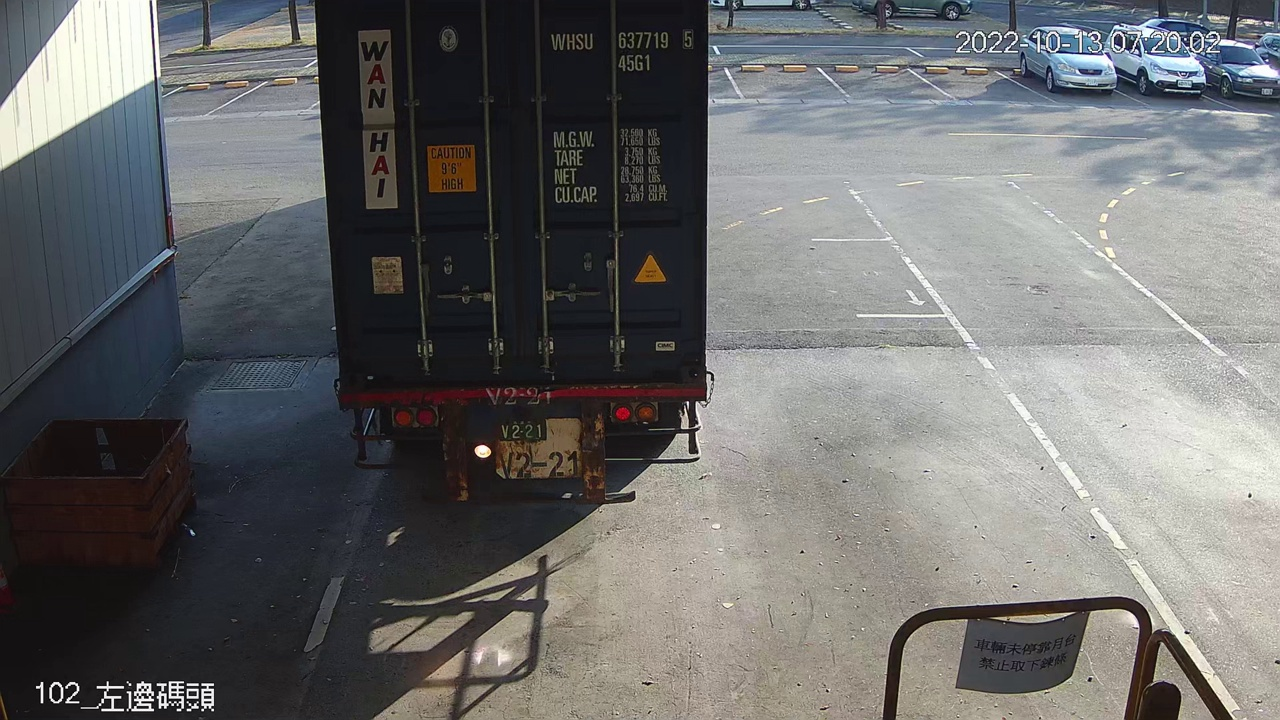container: (545, 22, 701, 79)
